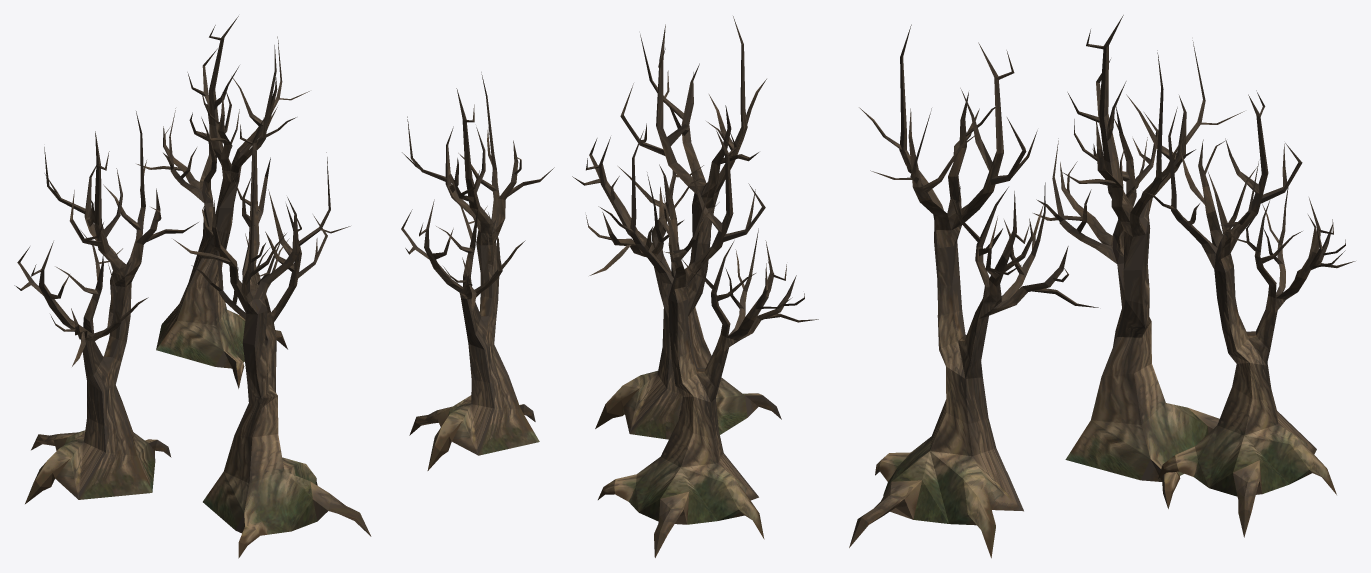
File: plants_tall_tree_trunks.fbx
The picture shows the model from 3 angles, left to right: view 1: azimuth 30°, elevation 25°; view 2: azimuth 150°, elevation 25°; view 3: azimuth 270°, elevation 25°; orthographic projection. The views are drawn at different scales.
Visible parts, largest first — view 1: obj0.137; view 2: obj0.137; view 3: obj0.137.
Boxes of the visible parts, x1,y1,x2,y2 form: obj0.137: (14, 16, 371, 558); obj0.137: (401, 16, 818, 557); obj0.137: (849, 15, 1355, 558).
Bounding box in the file's own units: 8.26 × 9.38 × 8.94.
